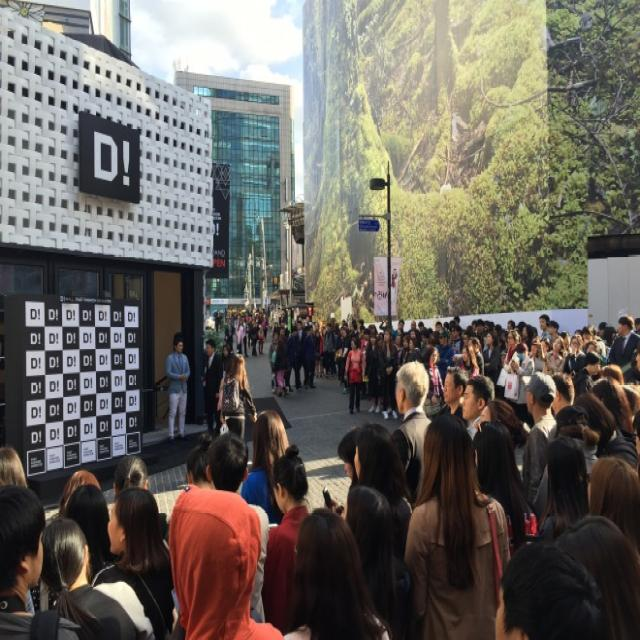body: (398, 410, 520, 639), (167, 481, 285, 640), (266, 507, 401, 639), (315, 482, 414, 639), (40, 516, 155, 640), (348, 311, 615, 364), (204, 430, 270, 624), (0, 481, 81, 638), (493, 539, 605, 640), (106, 486, 176, 640), (556, 520, 640, 640), (262, 444, 311, 636), (472, 423, 537, 557), (352, 422, 414, 561), (530, 403, 600, 522), (238, 407, 294, 526), (389, 361, 434, 502), (518, 370, 558, 526), (570, 393, 640, 473), (537, 434, 590, 538), (585, 455, 640, 550), (57, 484, 113, 572), (323, 423, 369, 520), (218, 352, 259, 444), (587, 375, 637, 449), (163, 330, 192, 444), (474, 397, 532, 452), (547, 370, 589, 440), (212, 306, 268, 357), (268, 309, 300, 398), (502, 342, 534, 426), (597, 362, 640, 423), (461, 374, 496, 444), (180, 429, 218, 493), (313, 318, 347, 388), (201, 338, 223, 442), (377, 326, 400, 420), (57, 469, 103, 516), (421, 344, 448, 419), (342, 335, 366, 414), (571, 349, 604, 406), (605, 313, 640, 366), (442, 365, 471, 428), (112, 454, 150, 502), (496, 327, 522, 388), (215, 344, 232, 433), (364, 332, 382, 415), (478, 330, 501, 385), (0, 445, 27, 487), (301, 323, 318, 389), (540, 334, 566, 376), (562, 334, 588, 371), (457, 341, 481, 380), (629, 309, 640, 363), (389, 264, 403, 295), (300, 316, 310, 336)
